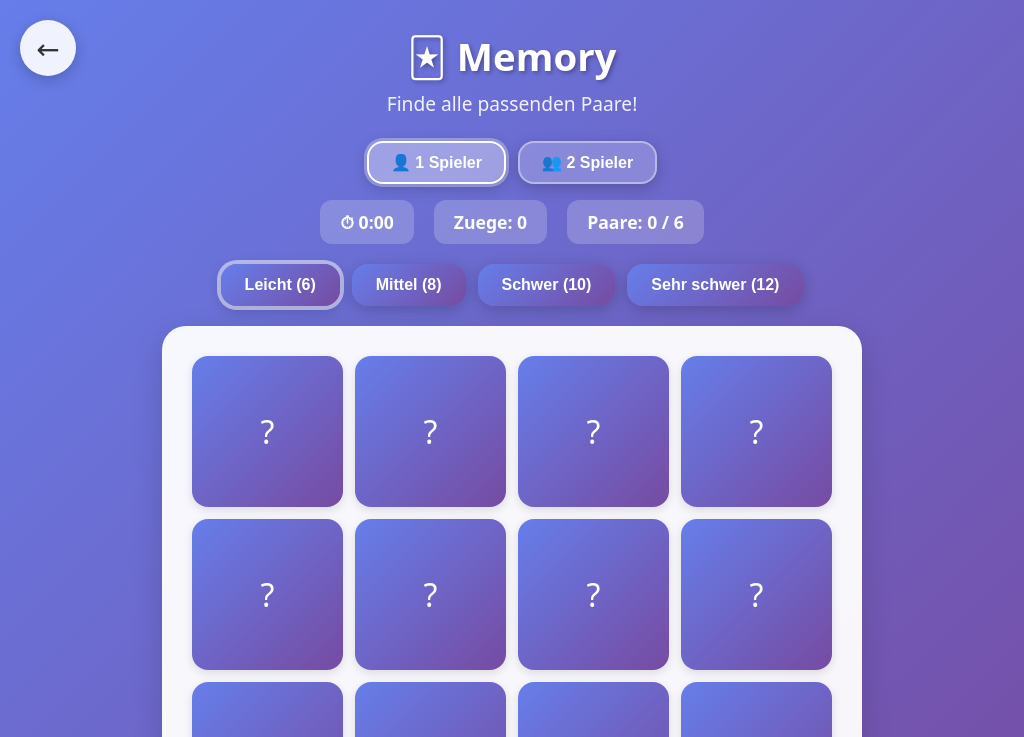
Test case: Memory component › changes card count when switching difficulty
The width and height of the screenshot is (1024, 737).
Click the button "Mittel (8)".
click(409, 285)  # box [352,264,466,306]
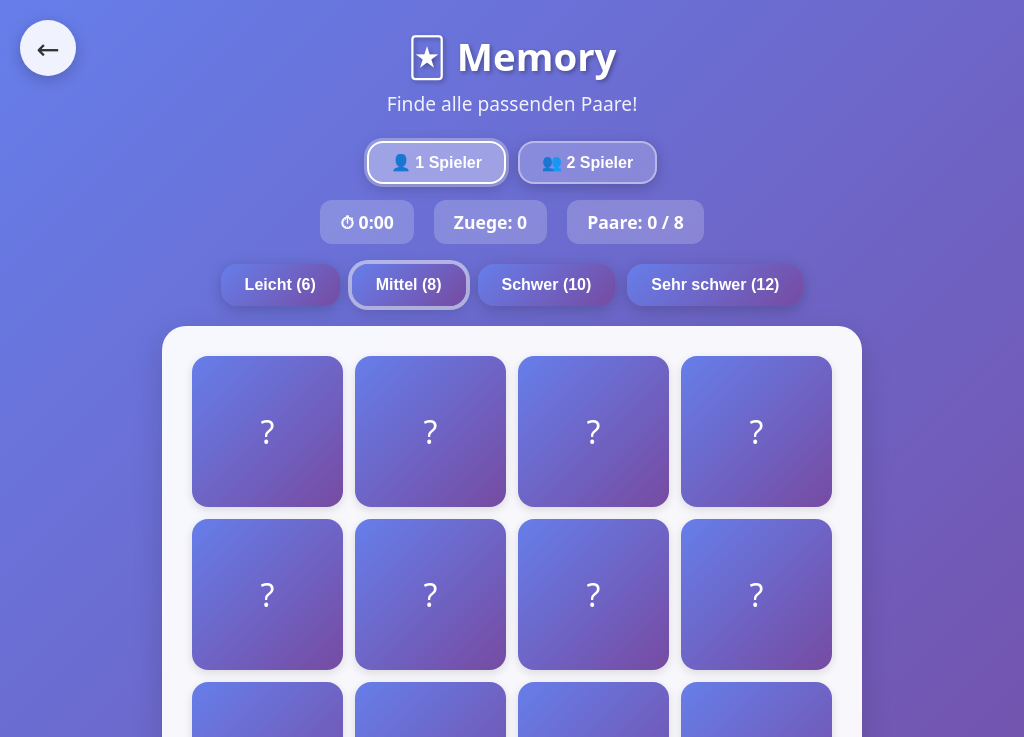
Click the button "Schwer (10)".
click(546, 285)  # box [478,264,615,306]
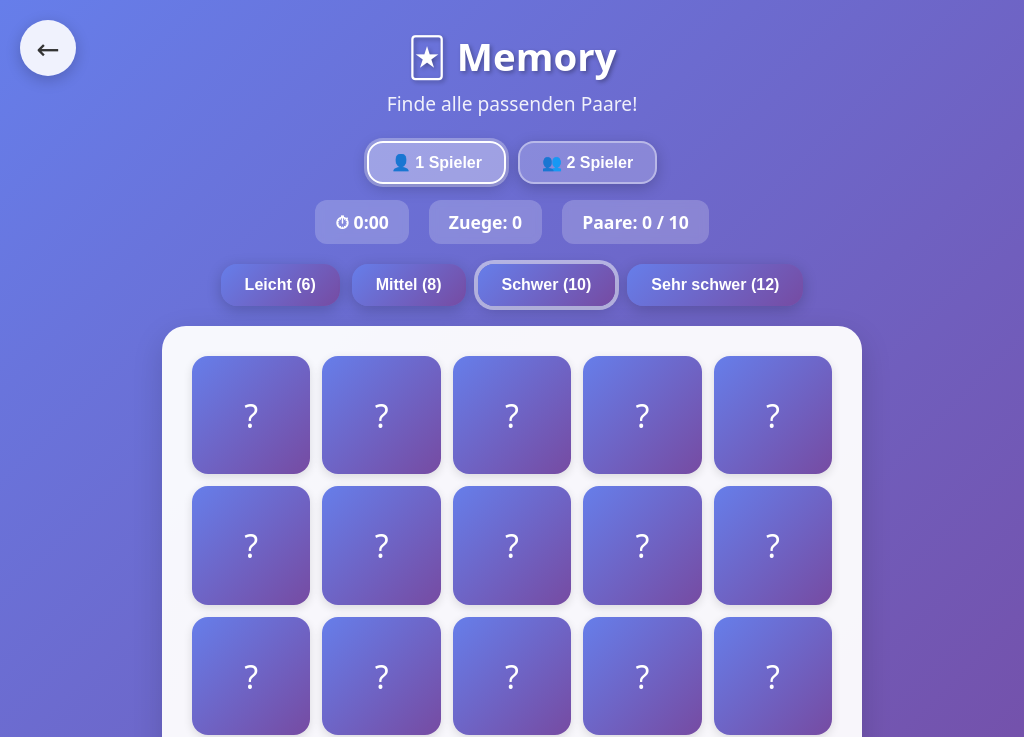
Expected: the number of elements with class "memory-card" is 20
